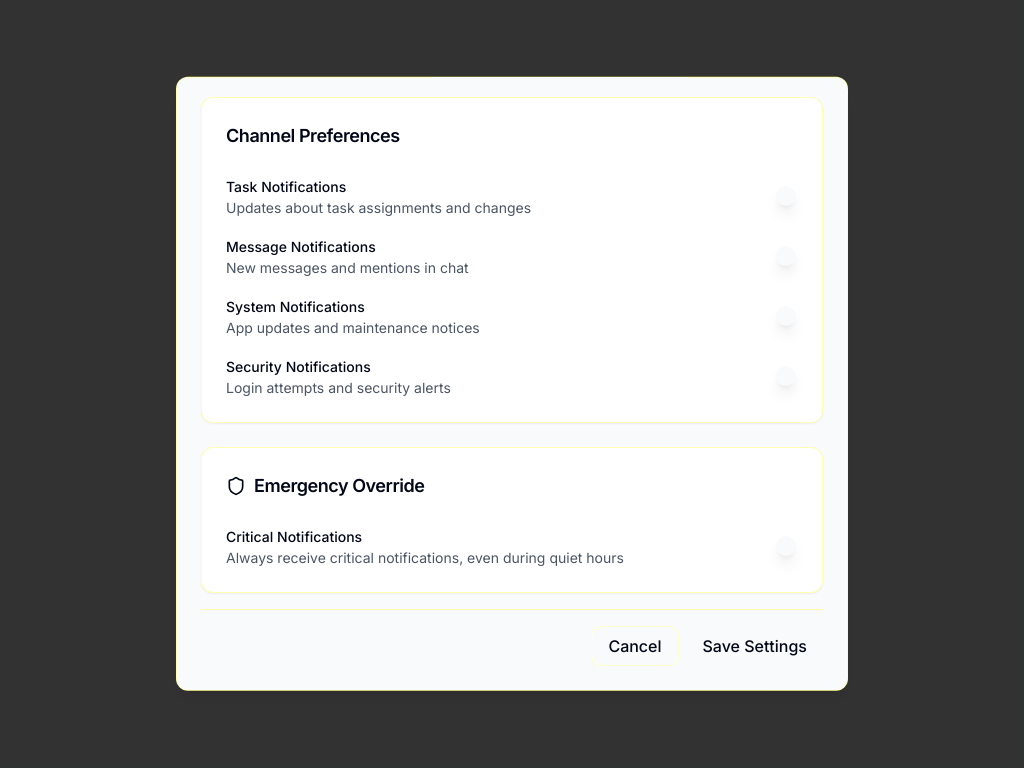
Test: NotificationCenter › handles save error
The width and height of the screenshot is (1024, 768).
(page scrolled)
Try to save
Click the button with test id "notification-save".
click(755, 646)  # box [686,626,823,666]
(page scrolled)
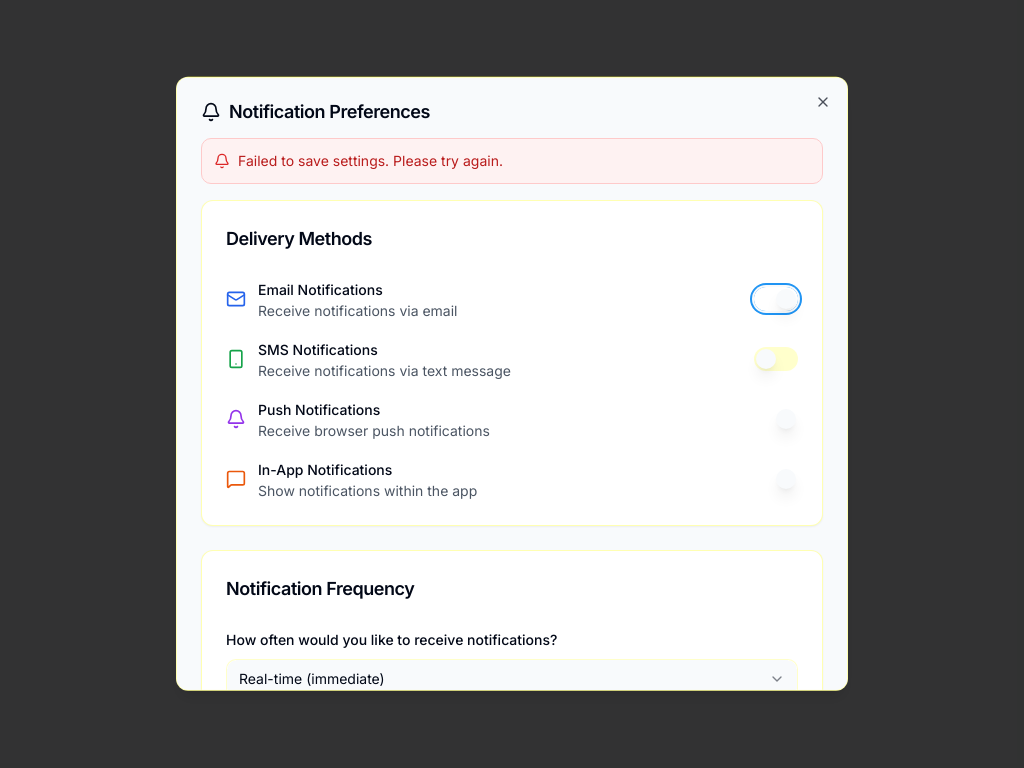
Result: the text "Failed to save settings. Please try again." is shown at [238,151,503,171]
